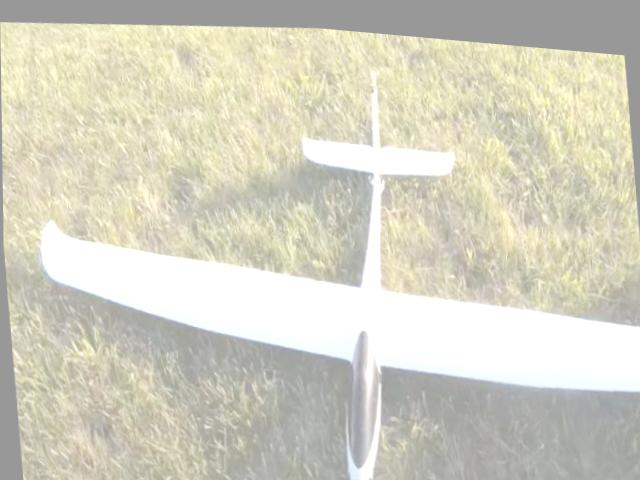iha: (16, 18, 640, 480)
